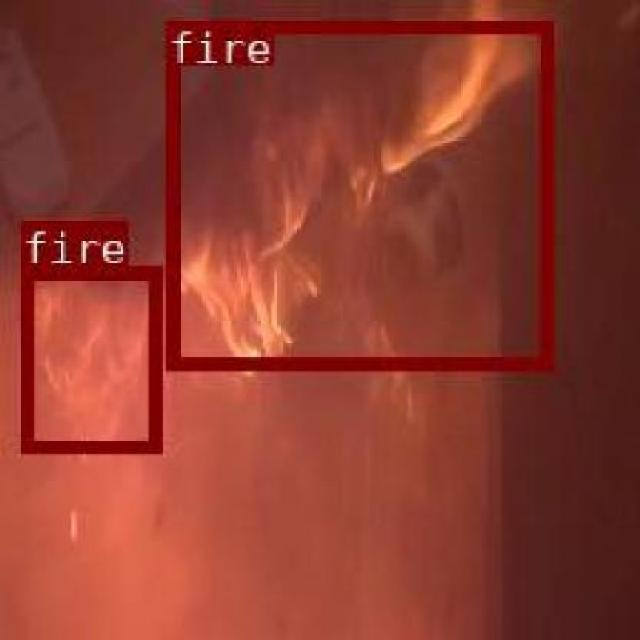Fire: (163, 19, 549, 366), (20, 265, 158, 450)
